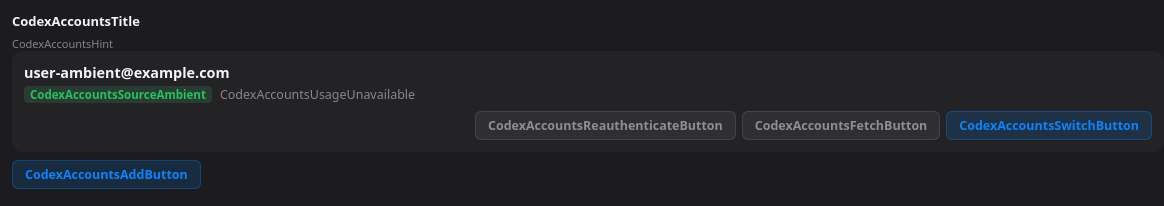
it: CodexAccountsSection › offers ambient reauthentication and reloads the account state
What coordinates should you click on to do the following:
click the button "CodexAccountsReauthenticateButton"
I would click on:
 (605, 126)
Its box is [475,111,736,140].
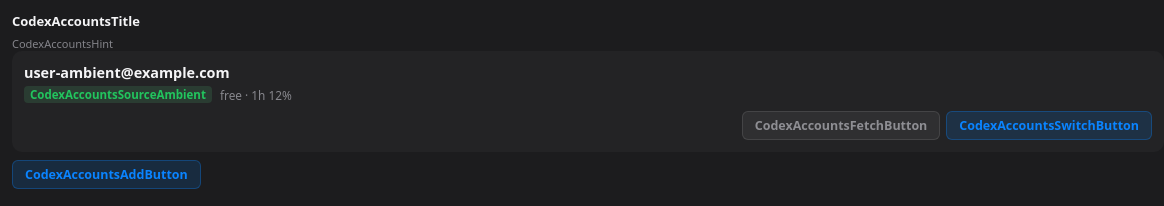
Check: the text "free · 1h 12%" is shown, box [220,87,292,103]
